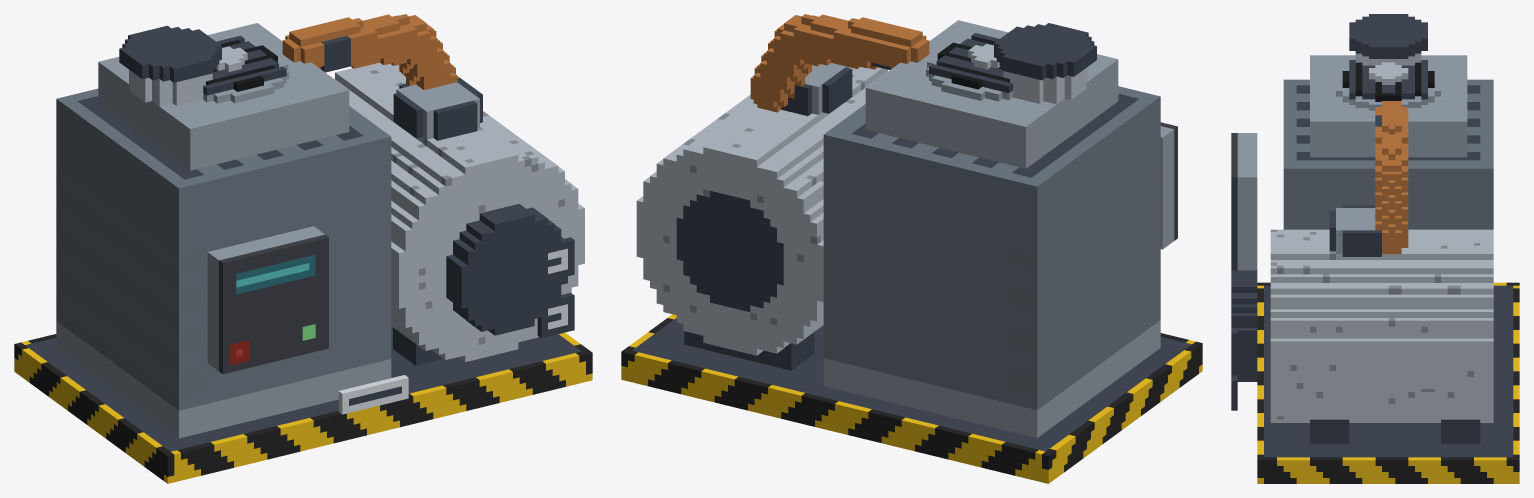
The model's file is compressor.obj.
The picture shows the model from 3 angles, left to right: view 1: azimuth 30°, elevation 25°; view 2: azimuth 150°, elevation 25°; view 3: azimuth 270°, elevation 25°; orthographic projection. The views are drawn at different scales.
Visible parts, largest first — view 1: compressor; view 2: compressor; view 3: compressor.
Boxes of the visible parts, <box> form: compressor: <box>14,14,592,483</box>; compressor: <box>621,14,1202,483</box>; compressor: <box>1231,14,1519,483</box>.
Size of the model in its own units: 2 by 1.62 by 1.38.
